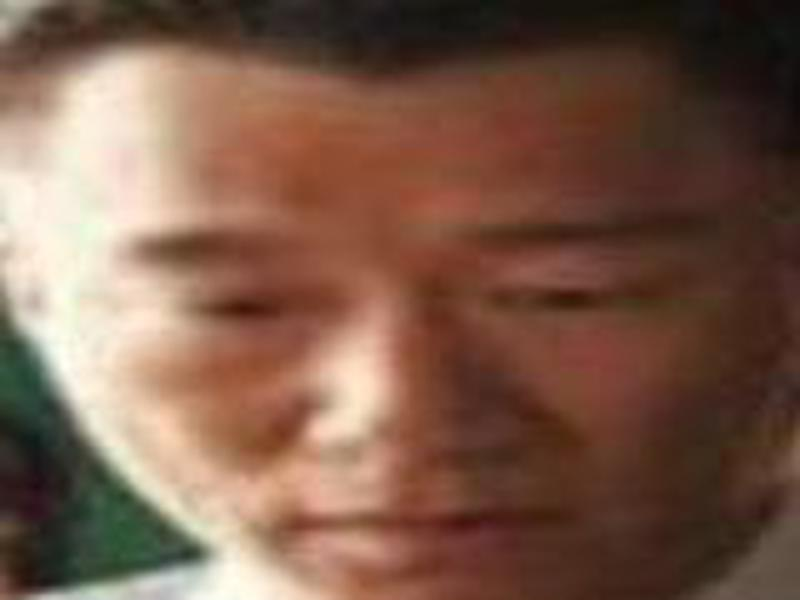without_mask: (11, 55, 784, 600)
